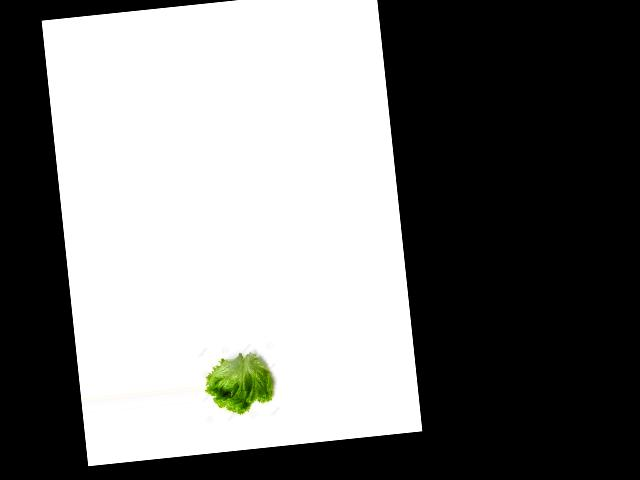lettuce: (200, 348, 281, 415)
